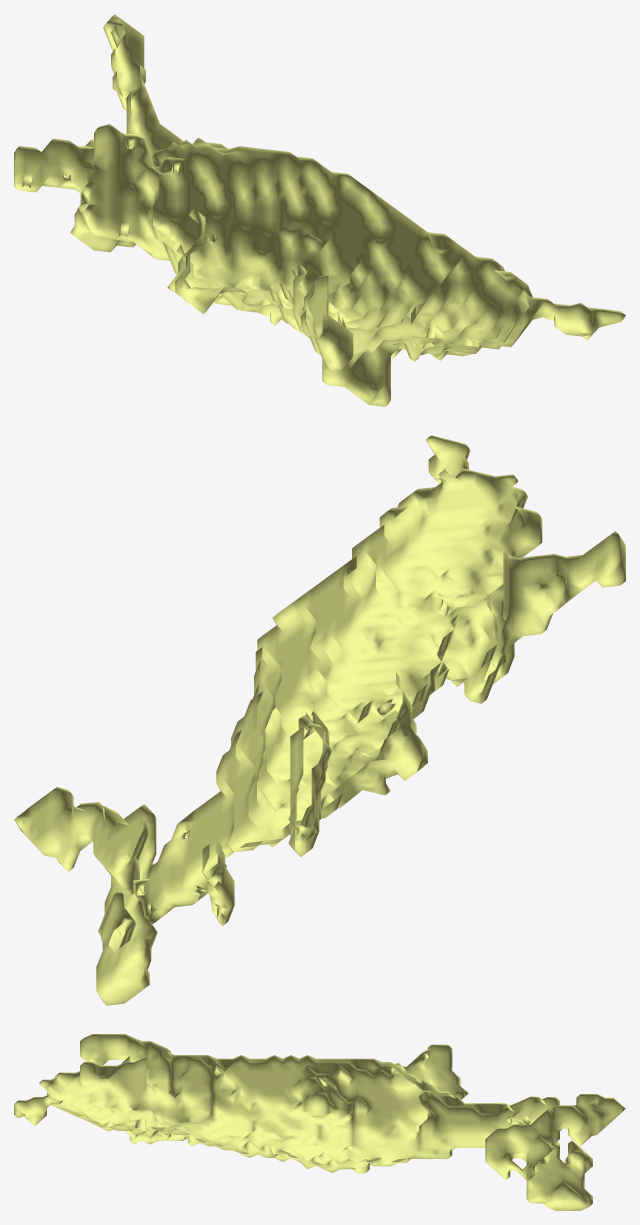
Rendered from osteocyte_44.glb.
3 views of the same model, one above another, from view 1: azimuth 30°, elevation 25°; view 2: azimuth 150°, elevation 25°; view 3: azimuth 270°, elevation 25° (orthographic). The views are drawn at different scales.
Parts seen in each view (by area): view 1: osteocyte_44; view 2: osteocyte_44; view 3: osteocyte_44.
Boxes of the visible parts, x1,y1,x2,y2 form: osteocyte_44: (14, 14, 625, 406); osteocyte_44: (14, 435, 625, 1005); osteocyte_44: (14, 1034, 625, 1210).
Bounding box in the file's own units: 10.28 × 8.05 × 33.09.
